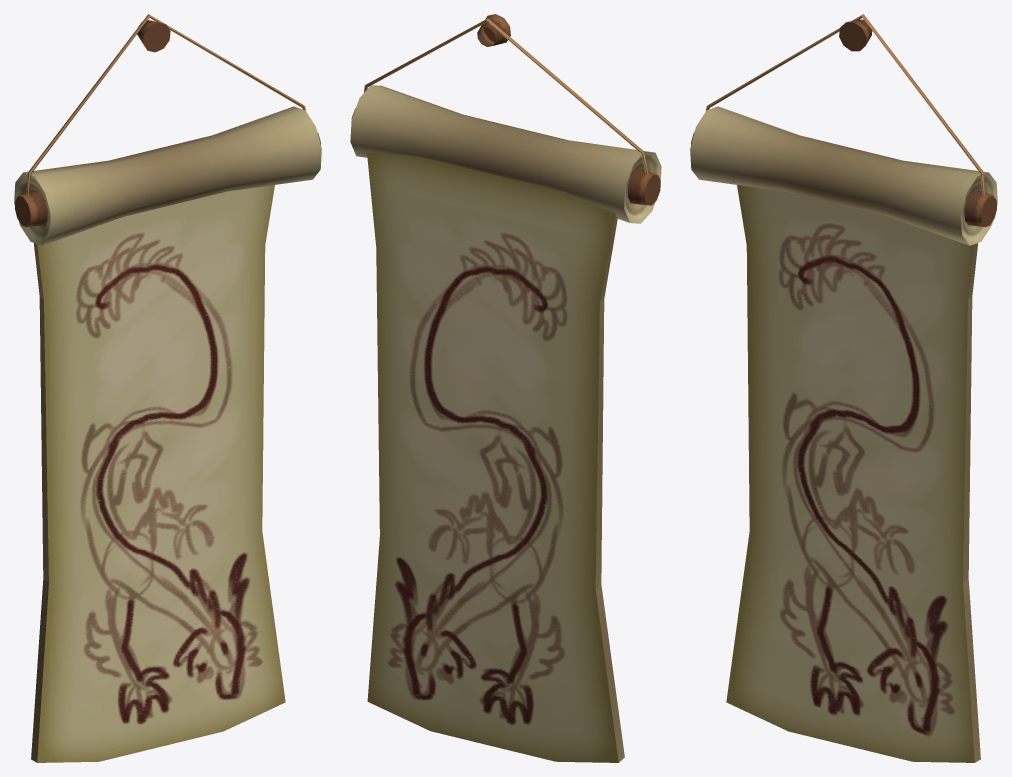
3 renders of one model, left to right at view 1: azimuth 30°, elevation 25°; view 2: azimuth 150°, elevation 25°; view 3: azimuth 330°, elevation 25°, orthographic.
Parts seen in each view (by area): view 1: WallScroll_01; view 2: WallScroll_01; view 3: WallScroll_01.
Boxes of the visible parts, box(x1,y1,x2,y2) form: WallScroll_01: box(14, 14, 321, 762); WallScroll_01: box(350, 14, 661, 762); WallScroll_01: box(690, 14, 997, 762).
Size of the model in its own units: 0.5359 by 1.28 by 0.1249.
1 material, 1 textured.
